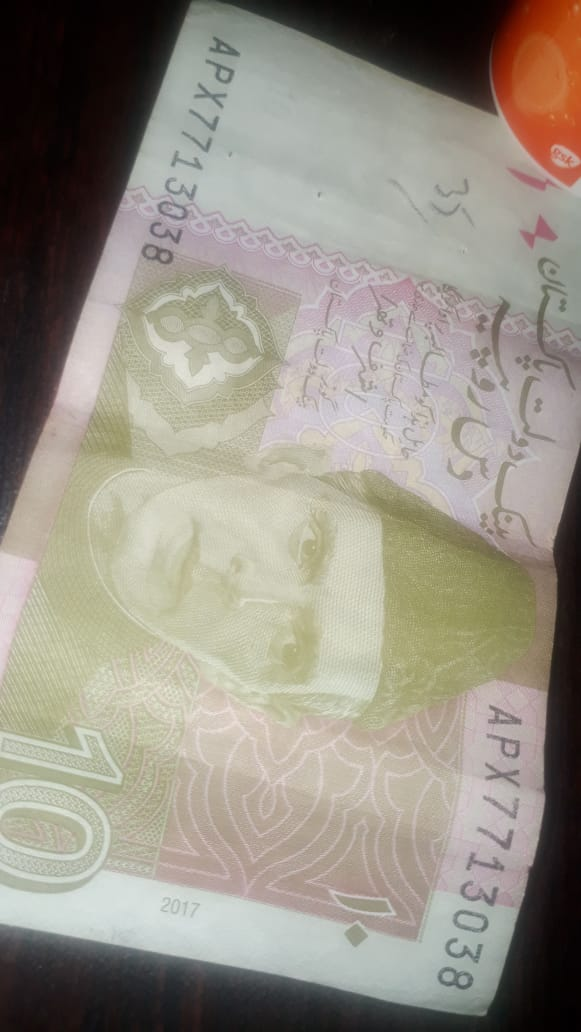10 rupee: (7, 4, 576, 1025)
